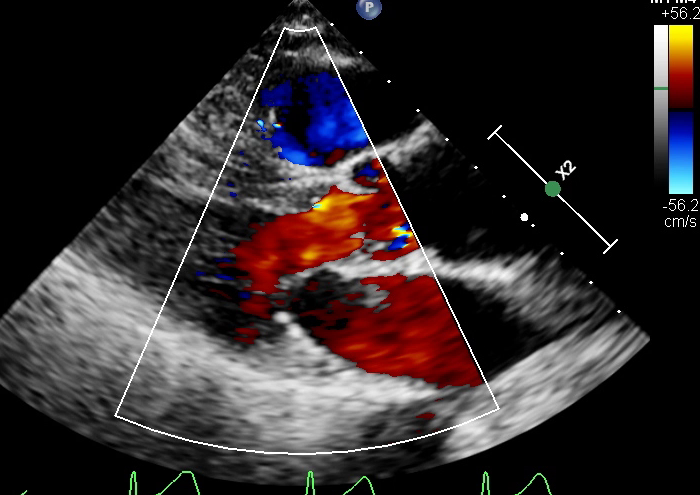AR: (258, 161, 371, 281)
